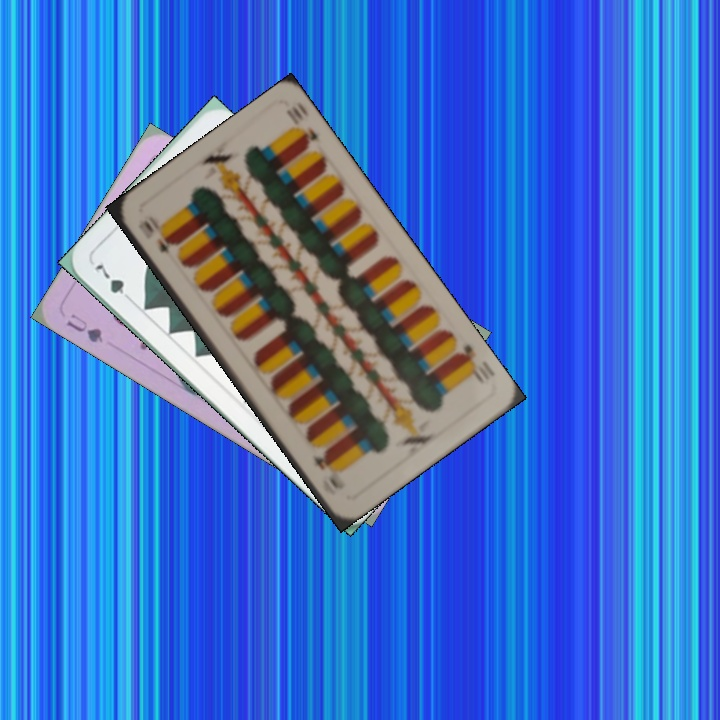E10: (134, 216, 175, 256), (451, 340, 487, 385)
G7: (90, 260, 137, 306)
GU: (62, 309, 106, 346)
